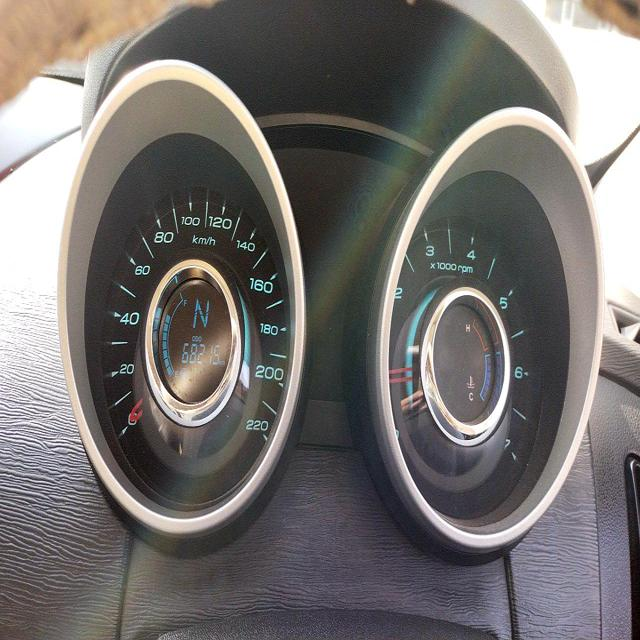odometer: (177, 335, 222, 374)
